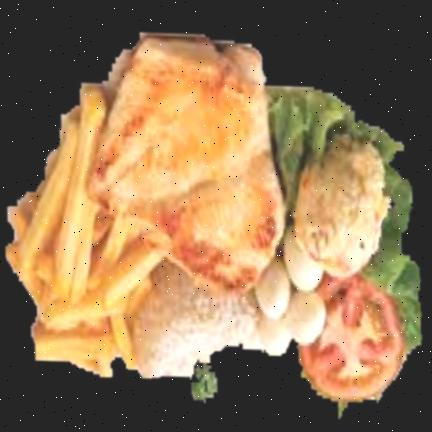chicken: (88, 37, 286, 294), (90, 37, 284, 294)
egg: (254, 224, 325, 356)
potato: (6, 80, 167, 376), (7, 89, 150, 376)
rice: (133, 261, 261, 377), (136, 261, 260, 378)
salad: (263, 90, 417, 411), (269, 87, 421, 354)
tomato: (299, 275, 405, 401)
